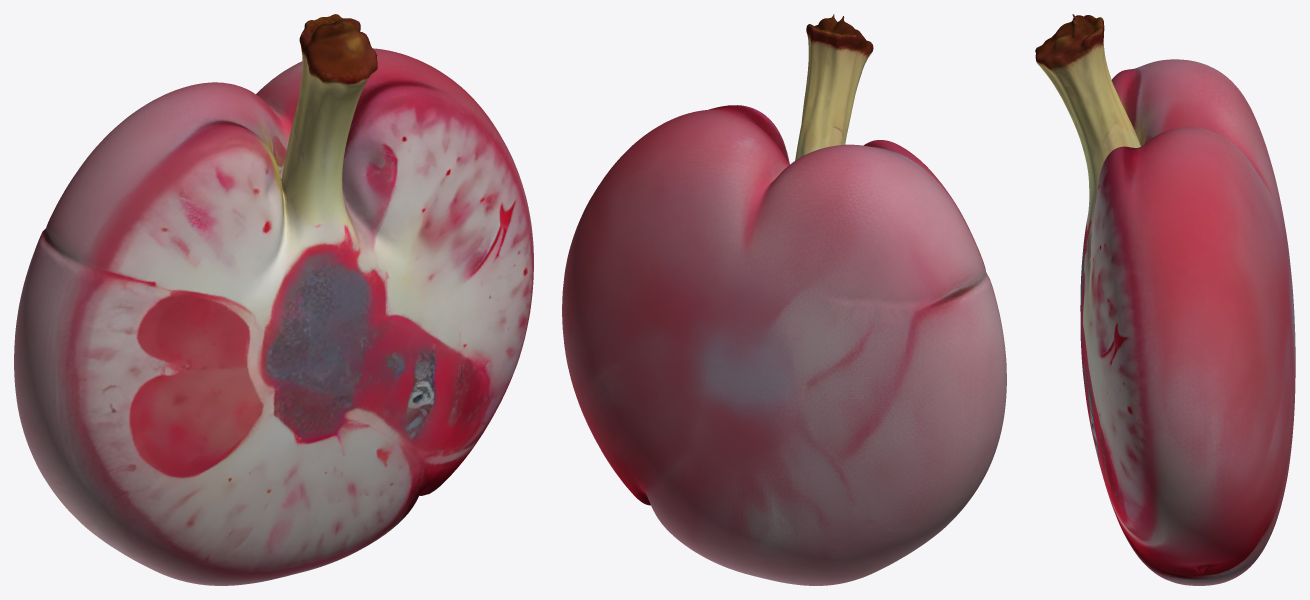
Rendered from tumor-spleen.glb.
3 views of the same model, side by side, from view 1: azimuth 30°, elevation 25°; view 2: azimuth 150°, elevation 25°; view 3: azimuth 270°, elevation 25° (orthographic). The views are drawn at different scales.
Visible parts, largest first — view 1: model; view 2: model; view 3: model.
Part boxes in pixels (x1,y1,x2,y2): model: (14,14,533,585); model: (562,14,1006,585); model: (1035,14,1295,585).
Bounding box in the file's own units: 1.65 × 1.9 × 0.8236.
1 material, 1 textured.
